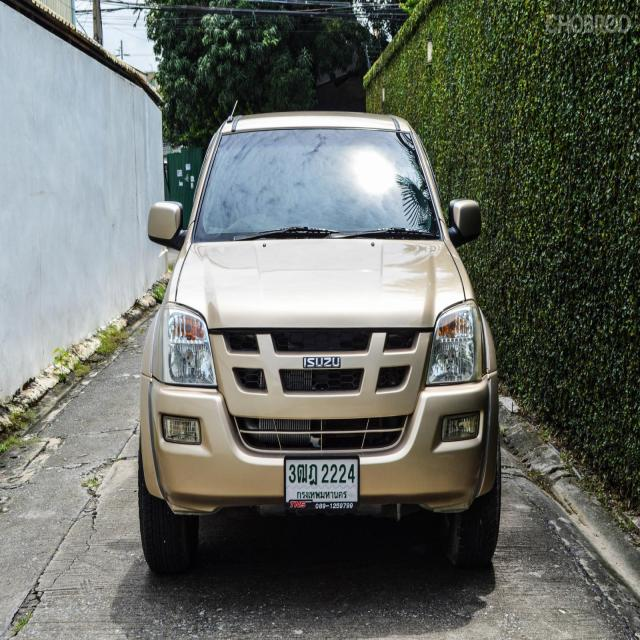license_plate: (282, 454, 361, 512)
